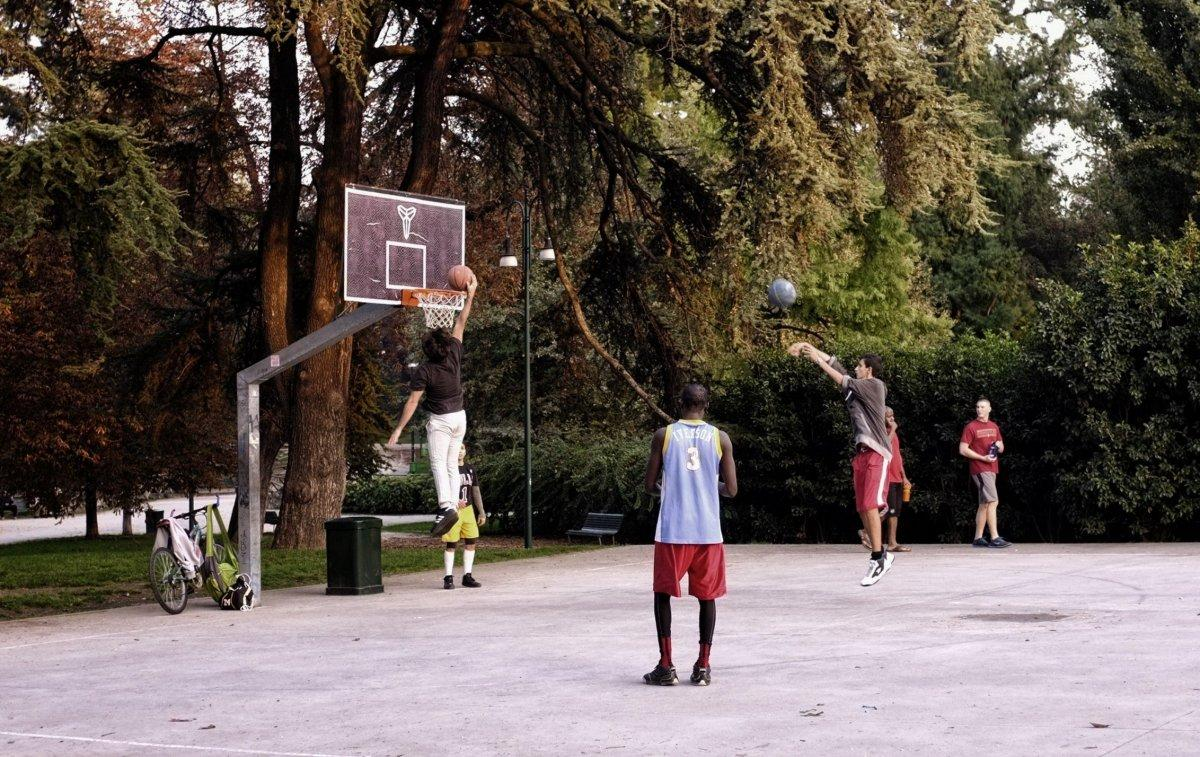basketball: (764, 281, 798, 311), (444, 262, 472, 287)
